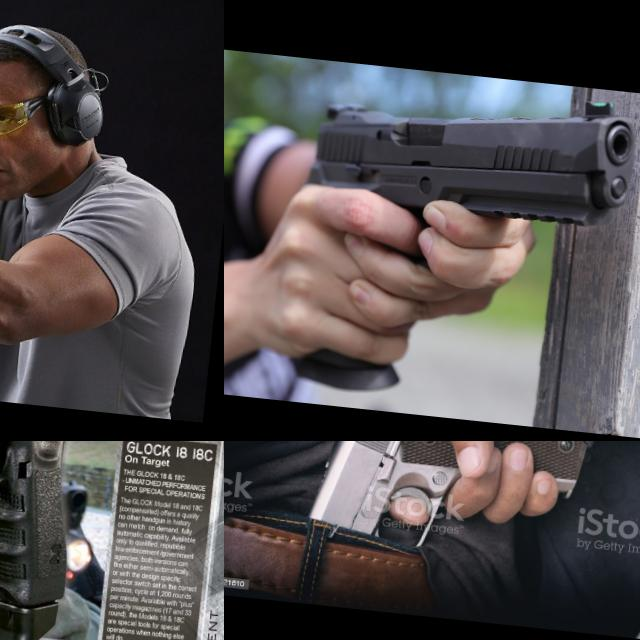handgun: (303, 68, 640, 237), (299, 441, 605, 582), (0, 441, 152, 640), (0, 96, 70, 183)
